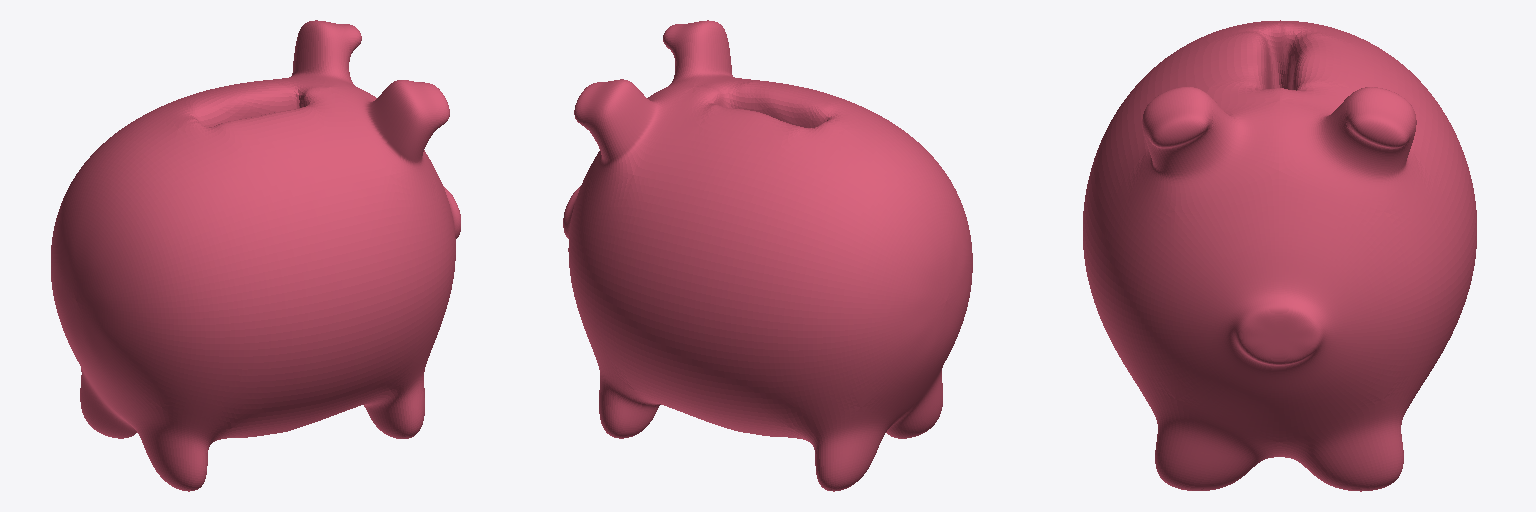
The robot description file, URDF, robot "object":
<?xml version="1.0"?>
<robot name="object">
  <link name="object">
    <visual>
      <origin xyz="0.0 0.0 0.0" rpy="0 0 0"/>
      <geometry>
        <mesh filename="piggy_bank.stl" scale="0.38 0.48 0.48"/>
      </geometry>
      <material name="auto_color">
        <color rgba="0.85 0.4 0.5 1.0"/>
      </material>
    </visual>
    <collision>
      <origin xyz="0.0 0.0 0.0" rpy="0 0 0"/>
      <geometry>
        <mesh filename="piggy_bank.stl" scale="0.38 0.48 0.48"/>
      </geometry>
    </collision>
  </link>
</robot>
    
                    

--- Facts derived from the render (not from the file) ---
The picture shows the robot from 3 angles, left to right: view 1: azimuth 30°, elevation 25°; view 2: azimuth 150°, elevation 25°; view 3: azimuth 270°, elevation 25°; orthographic projection.
Model object with 1 links and 0 joints (none), rooted at object, posed all joints at 0.
Visible links, largest first — view 1: object; view 2: object; view 3: object.
Link boxes in pixels (bbox=[...]): object: bbox=[51, 20, 460, 491]; object: bbox=[563, 20, 972, 491]; object: bbox=[1083, 20, 1476, 491].
Size in the robot's own frame: 0.0713 by 0.058 by 0.0653 metres.
1 mesh visuals loaded from 1 distinct referenced files (1 binary STL).
